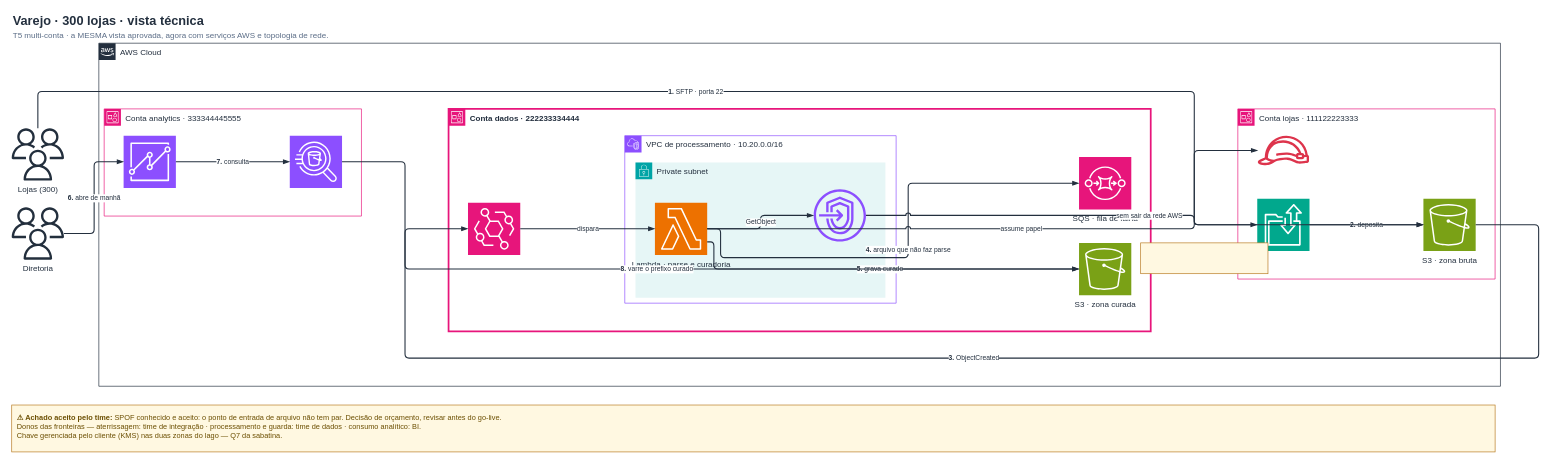
This 1556x464 diagram has some shape labels left out. The centre of each missing label's shape, as x and y in pixels:
"Athena" goes at (315,161).
"EventBridge" goes at (493,228).
"Histórico de 5 anos por exigência de auditoria, com regra de ciclo de vida." goes at (1204,258).
"Papel de leitura cross-account" goes at (1283,150).
"QuickSight" goes at (149,161).
"Transfer Family (SFTP)" goes at (1283,224).
"VPC endpoint (S3)" goes at (839,215).
